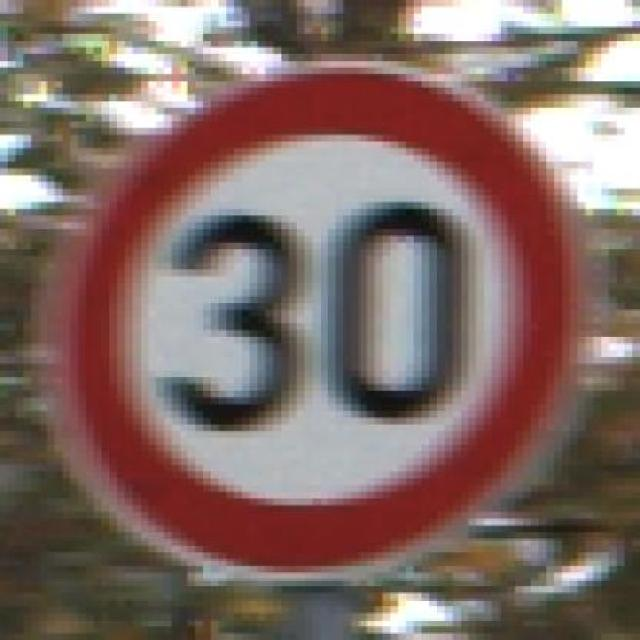Speed Limit 30 KMPh: (39, 47, 616, 607)
